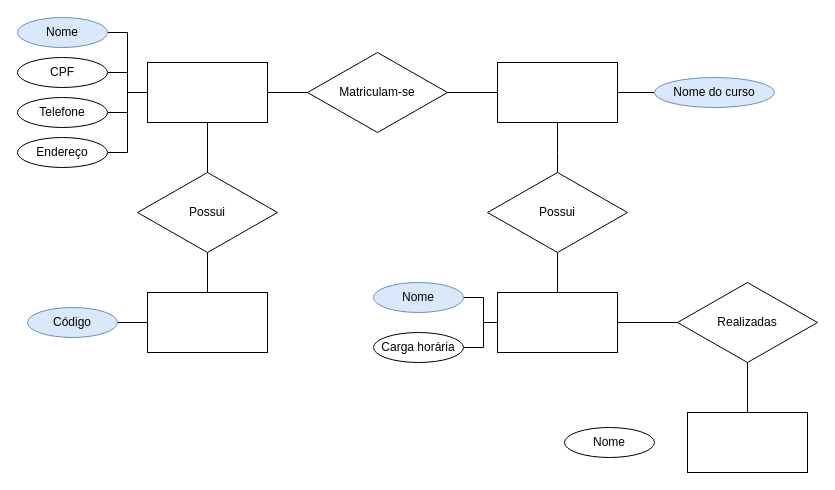
Image size: 835x490. Some labels were removed from this diagram. Here are the shapes that lost their labels. From the top down, the centre of each, then its label:
(207,92): Alunos
(557,92): Cursos
(207,322): Matrícula
(557,322): Disciplinas
(747,442): Professores
